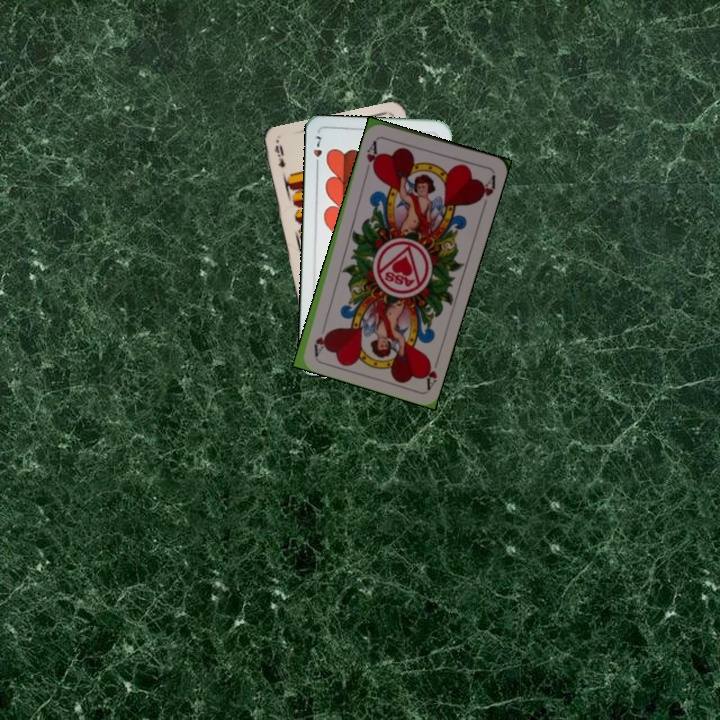E9: (270, 140, 288, 170)
H7: (309, 132, 324, 171)
HA: (419, 351, 442, 391), (362, 135, 382, 175)
